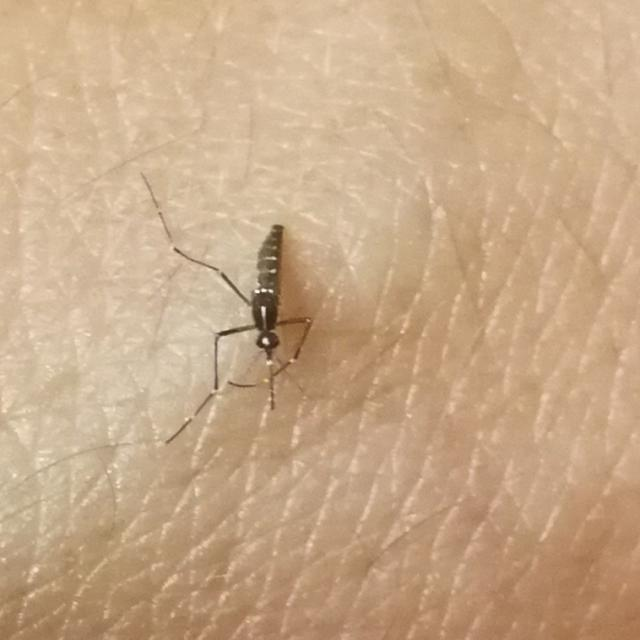albopictus: (121, 153, 326, 450)
